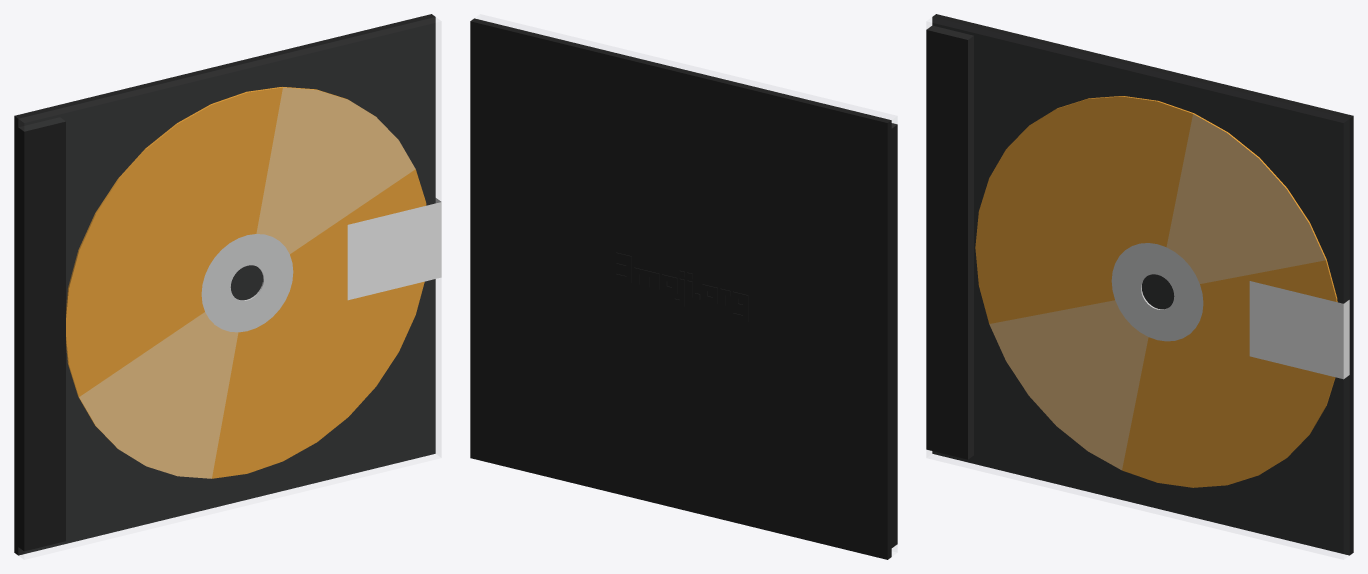
File: computer_disk.fbx
3 renders of one model, left to right at view 1: azimuth 30°, elevation 25°; view 2: azimuth 150°, elevation 25°; view 3: azimuth 330°, elevation 25°, orthographic.
Parts seen in each view (by area): view 1: Cube.931; view 2: Cube.931; view 3: Cube.931.
Part boxes in pixels (bbox=[...]): Cube.931: bbox=[14, 14, 441, 559]; Cube.931: bbox=[470, 14, 897, 559]; Cube.931: bbox=[926, 14, 1353, 559].
Size of the model in its own units: 220 by 220 by 9.51.
Materials: 2 (1 with a texture image).
